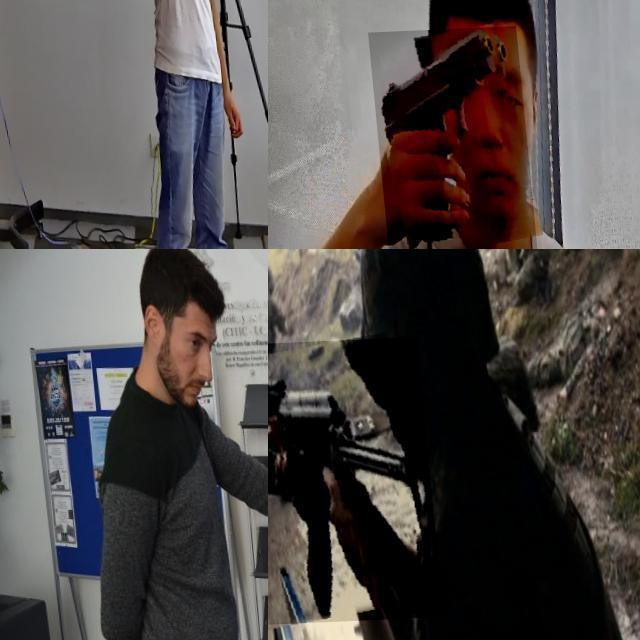gun-knife-thesis - v11 Yolov5 augmented: (268, 340, 433, 627), (366, 28, 531, 249), (210, 0, 266, 43)
